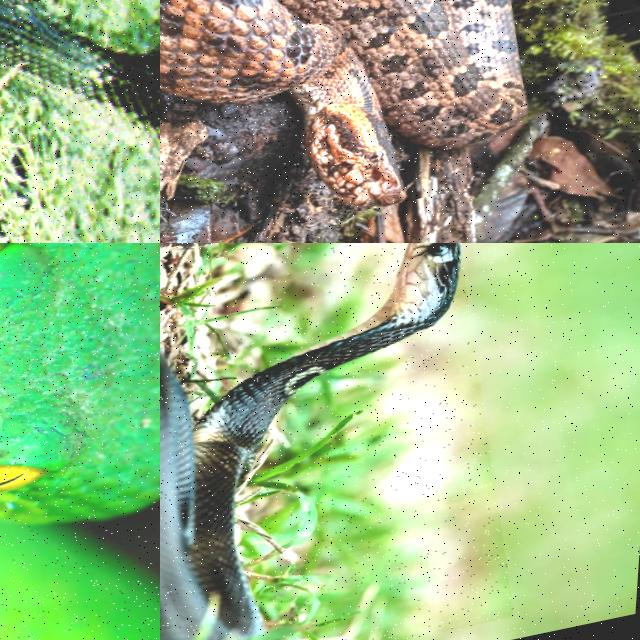Naja kaouthia: (160, 243, 459, 639)
Naja siamensis: (0, 0, 159, 150)
Ovophis monticola: (160, 0, 525, 208)
Trimeresurus macrops: (0, 243, 159, 522)
